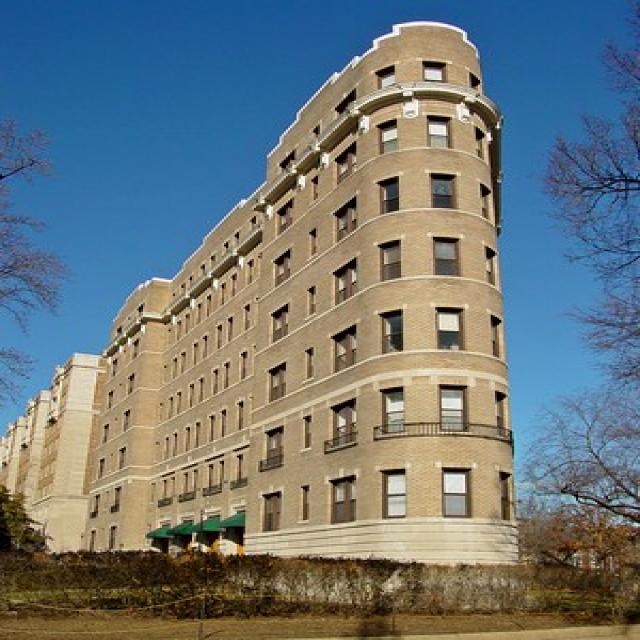Normal_building: (73, 18, 529, 572)
